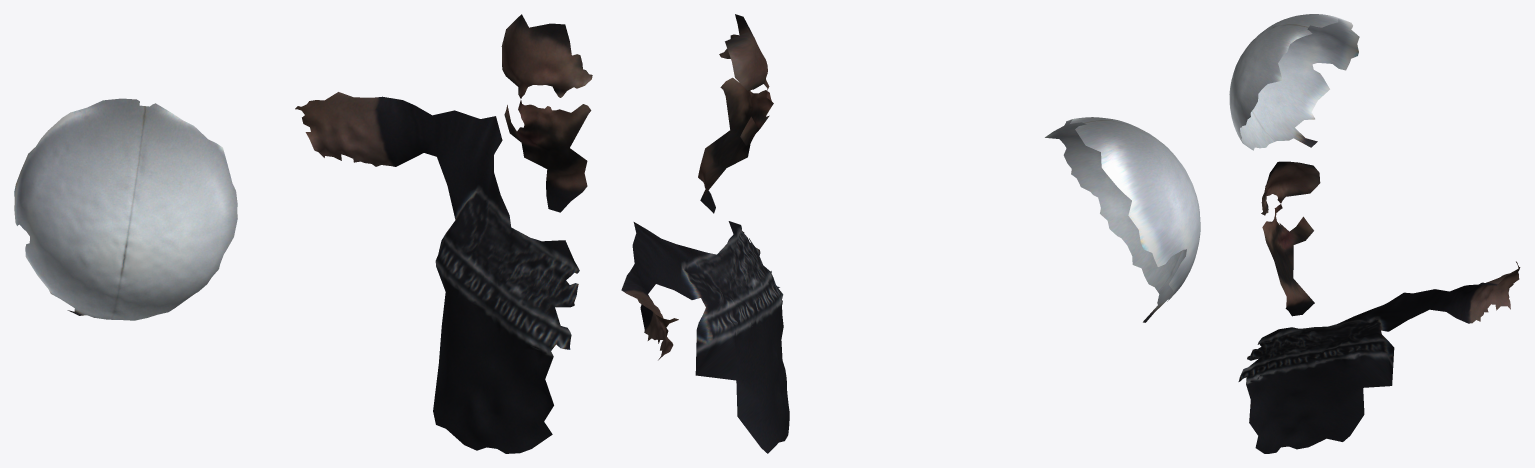
The model's file is LargeSphere_tangential_02.000035.08.obj.
The picture shows the model from 3 angles, left to right: view 1: azimuth 30°, elevation 25°; view 2: azimuth 150°, elevation 25°; view 3: azimuth 270°, elevation 25°; orthographic projection. The views are drawn at different scales.
Visible parts, largest first — view 1: result/LargeSphere_tangential_02.000035.08; view 2: result/LargeSphere_tangential_02.000035.08; view 3: result/LargeSphere_tangential_02.000035.08.
Boxes of the visible parts, x1,y1,x2,y2 form: result/LargeSphere_tangential_02.000035.08: [14, 14, 592, 453]; result/LargeSphere_tangential_02.000035.08: [621, 14, 1200, 453]; result/LargeSphere_tangential_02.000035.08: [1229, 14, 1520, 453].
Bounding box in the file's own units: 808 × 604 × 515.
